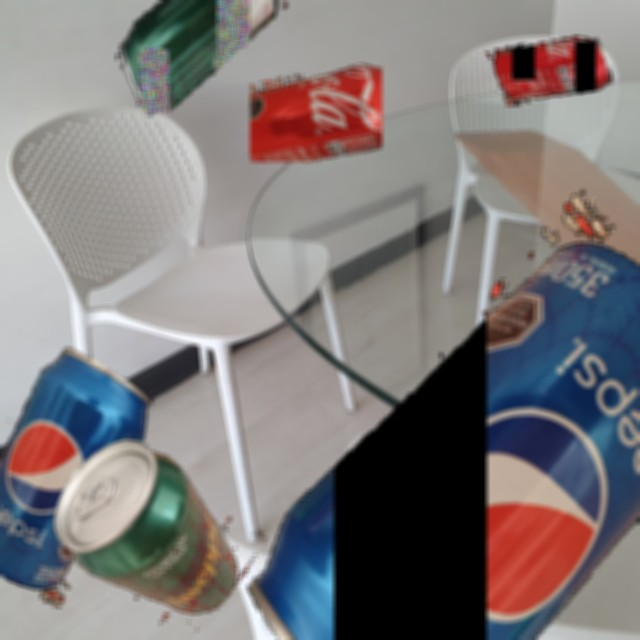coca cola: (250, 62, 382, 162), (485, 30, 616, 107)
pepsi: (174, 181, 640, 640), (0, 340, 173, 610)
schweppes: (32, 417, 274, 640), (98, 0, 301, 129)
